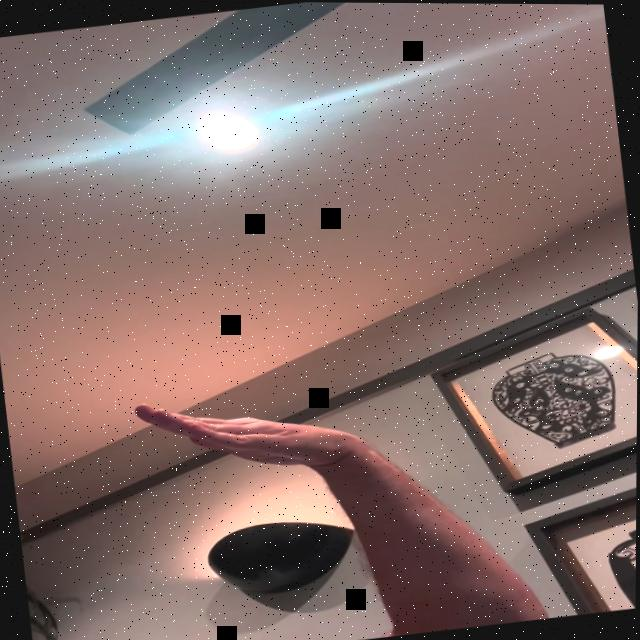Paper: (135, 378, 363, 484)
